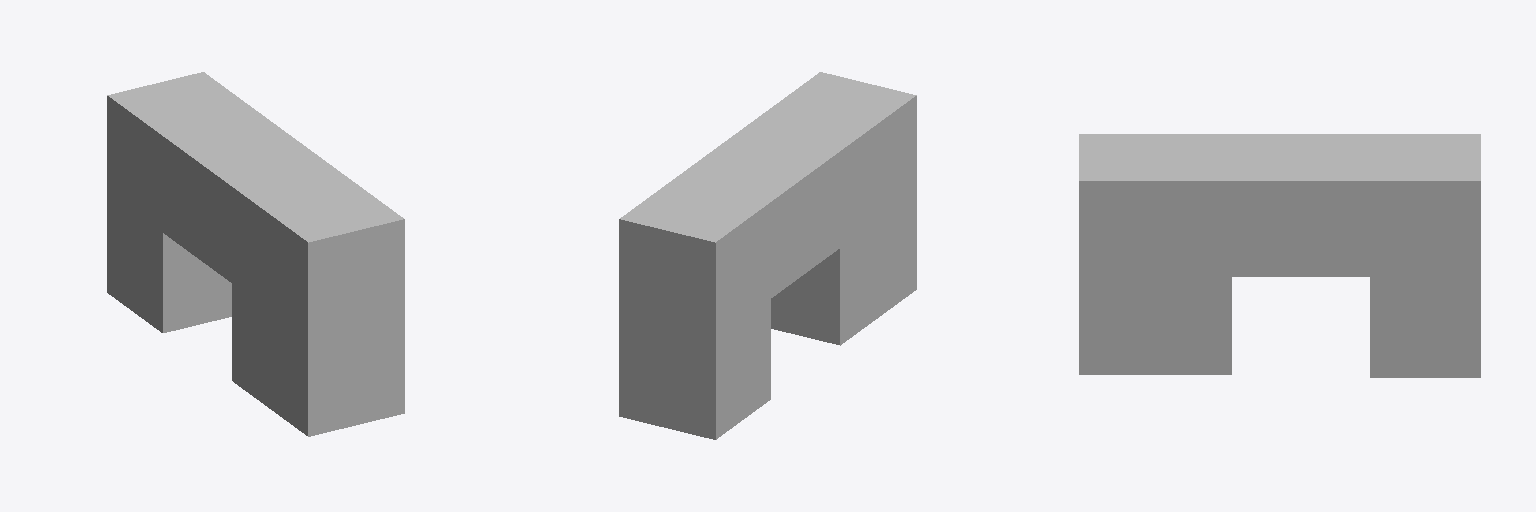
The model's file is cosa.obj.
3 renders of one model, left to right at view 1: azimuth 30°, elevation 25°; view 2: azimuth 150°, elevation 25°; view 3: azimuth 270°, elevation 25°, orthographic.
Visible parts, largest first — view 1: pCube1; view 2: pCube1; view 3: pCube1.
Part boxes in pixels (x1,y1,x2,y2): pCube1: (107, 72, 404, 436); pCube1: (619, 72, 916, 439); pCube1: (1079, 134, 1480, 377).
Size of the model in its own units: 1 by 1.96 by 3.62.